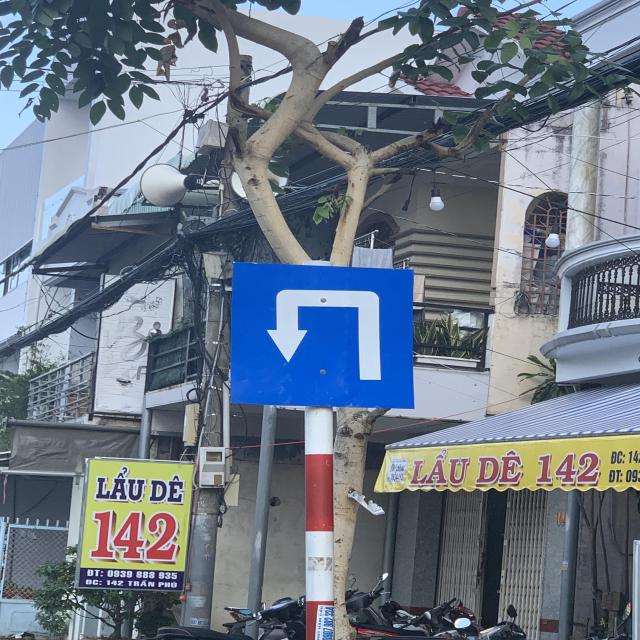Den_Giao_Thong: (230, 262, 412, 409)
